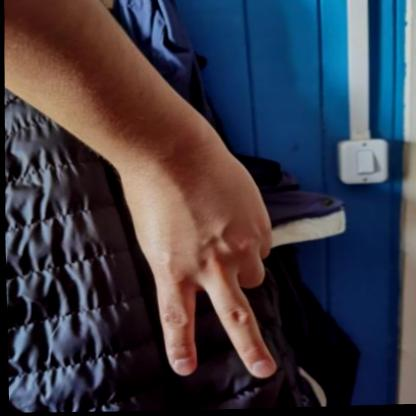N: (92, 110, 315, 392)
